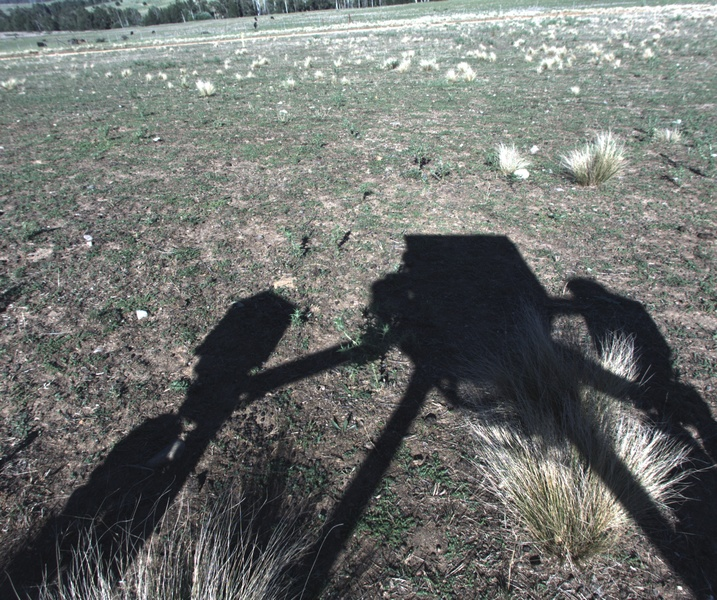st: (467, 337, 690, 556), (52, 495, 248, 600), (562, 126, 621, 185), (490, 138, 529, 186)
